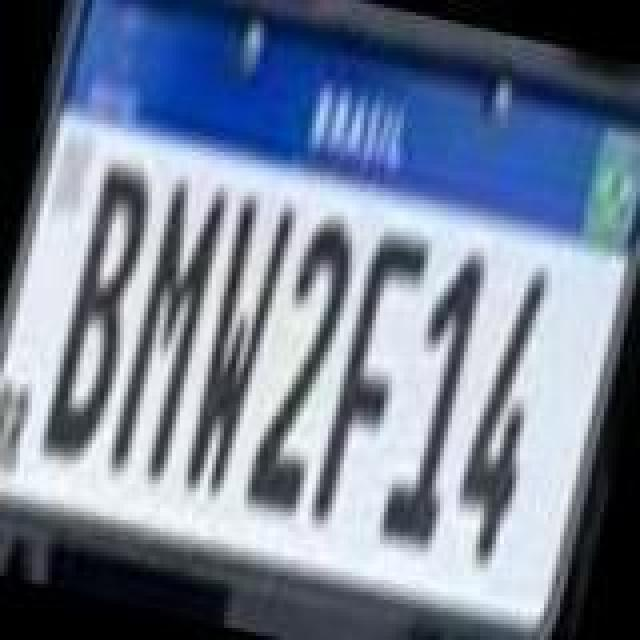1: (374, 240, 498, 552)
2: (242, 212, 366, 524)
4: (440, 258, 568, 574)
B: (36, 162, 164, 470)
F: (304, 222, 432, 538)
M: (102, 170, 234, 486)
W: (174, 196, 298, 508)
